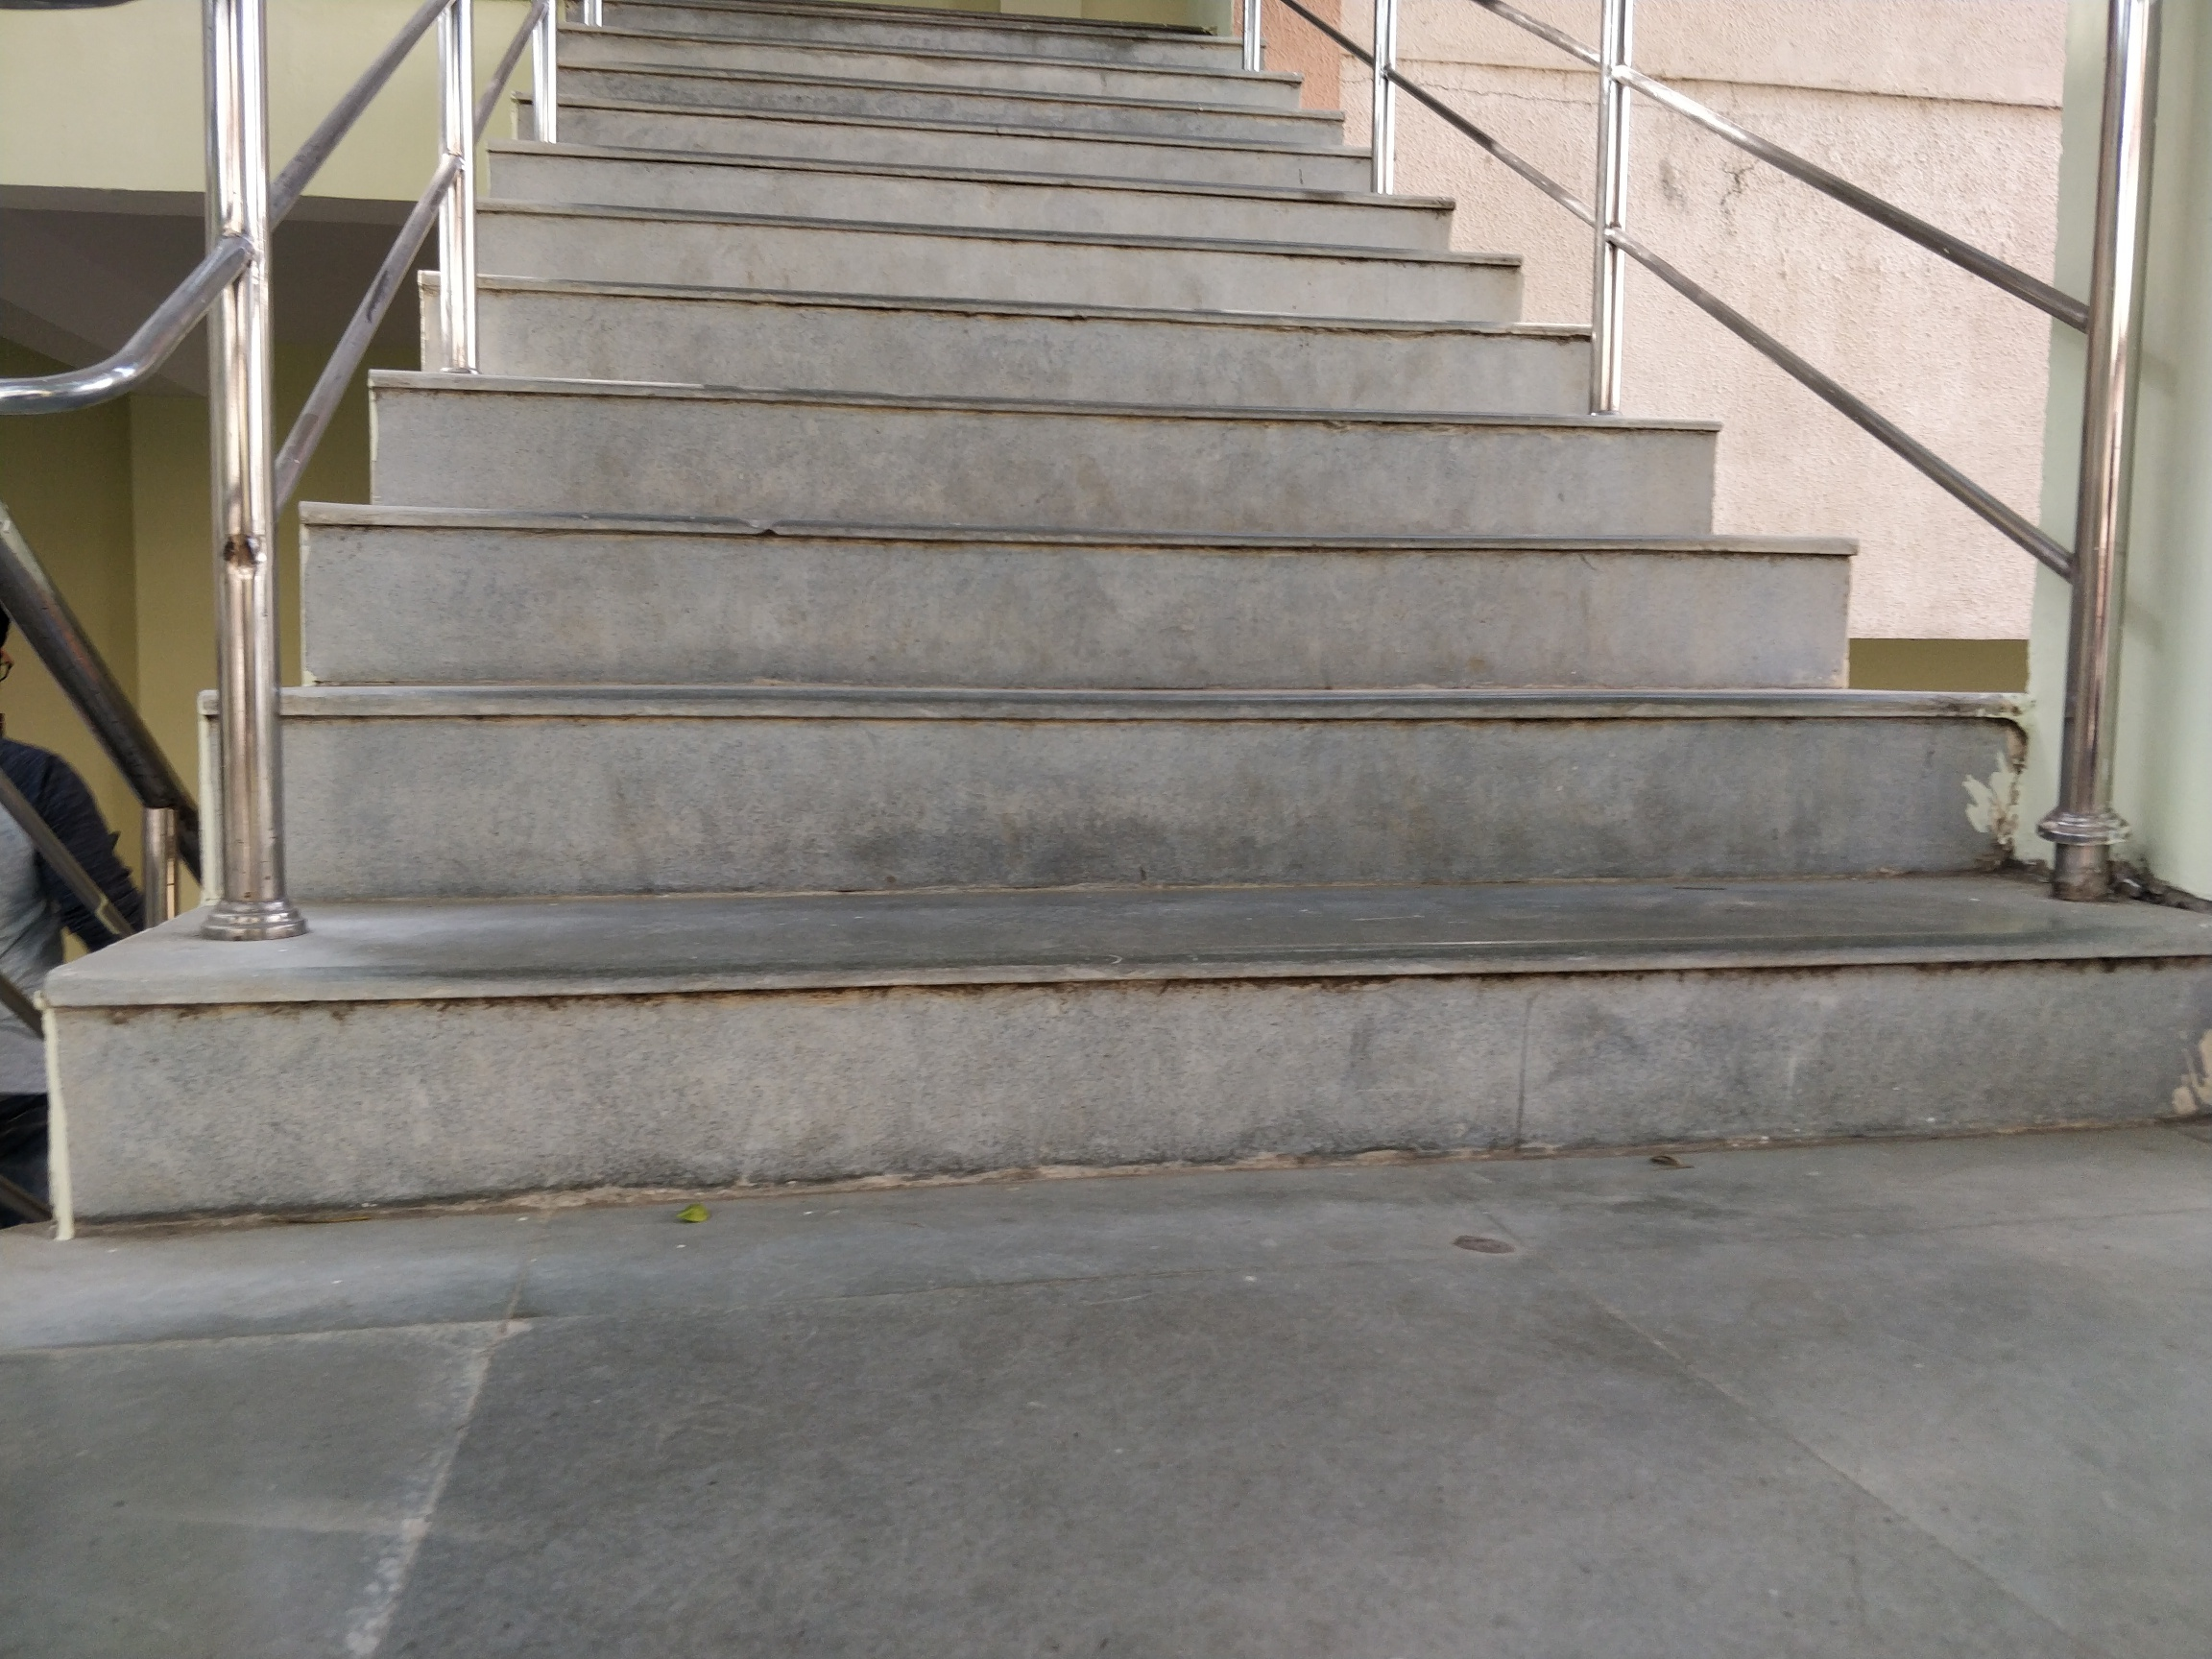stairs_up: (286, 52, 1982, 1213)
